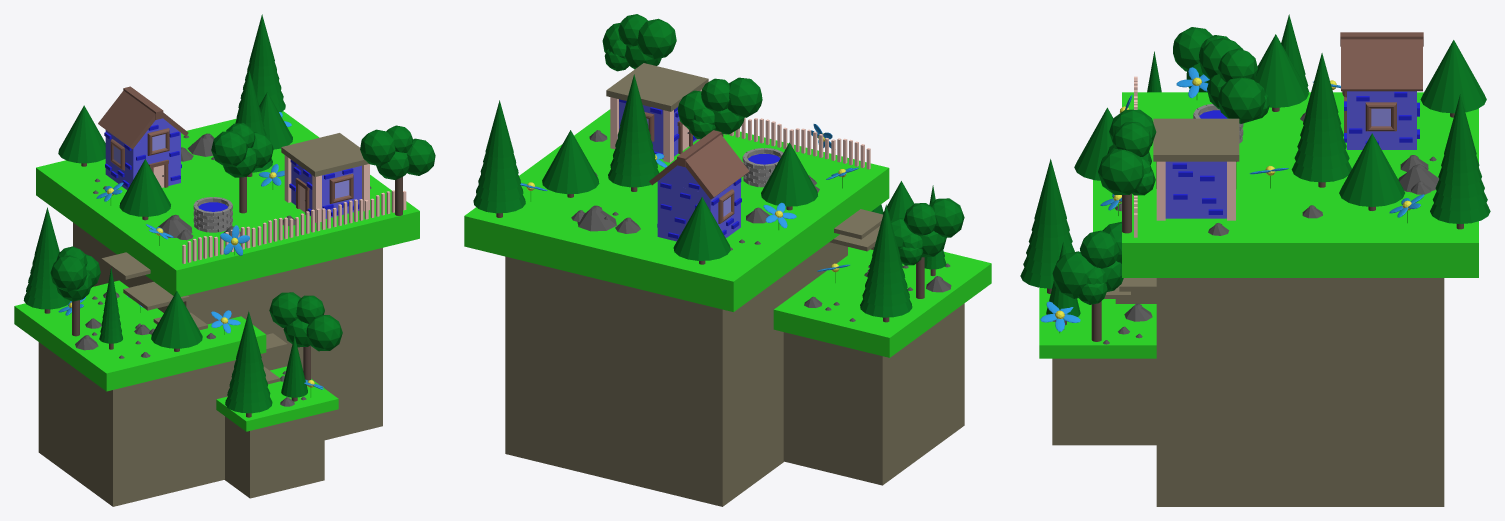
File: LonelyIsland.fbx
3 renders of one model, left to right at view 1: azimuth 30°, elevation 25°; view 2: azimuth 150°, elevation 25°; view 3: azimuth 270°, elevation 25°, orthographic. The views are drawn at different scales.
Parts seen in each view (by area): view 1: Cube.002, Cube.185, Cube, Cube.186, Cube.187, Cube.188, Cube.149, Cube.045, Cube.046, TreeLeaves, TreeLeaves.033, TreeLeaves.025 (+22 smaller); view 2: Cube, Cube.002, Cube.185, Cube.186, Cube.149, Cube.046, Cube.045, TreeLeaves.025, TreeLeaves.026, TreeLeaves.033, Icosphere.016, Icosphere.010 (+15 smaller); view 3: Cube, Cube.002, Cube.187, Cube.188, Cube.044, Cube.149, Cube.144, Cube.046, TreeLeaves.026, TreeLeaves.025, TreeLeaves.033, Icosphere.011 (+29 smaller).
Part boxes in pixels (box(x1,y1,x2,y2)): Cube.002: box(36, 111, 419, 296); Cube.185: box(38, 342, 235, 506); Cube: box(73, 222, 382, 440); Cube.186: box(14, 280, 266, 391); Cube.187: box(224, 412, 324, 498); Cube.188: box(216, 366, 338, 431); Cube.149: box(281, 133, 368, 176); Cube.045: box(98, 90, 155, 149); Cube.046: box(105, 130, 180, 189); TreeLeaves: box(151, 291, 202, 348); TreeLeaves.033: box(119, 159, 170, 216); TreeLeaves.025: box(58, 105, 105, 163); Cube: box(505, 242, 847, 506); Cube.002: box(464, 109, 889, 311); Cube.185: box(783, 303, 964, 485); Cube.186: box(773, 247, 991, 357); Cube.149: box(606, 63, 708, 111); Cube.046: box(657, 181, 740, 241); Cube.045: box(685, 135, 749, 199); TreeLeaves.025: box(673, 197, 730, 260); TreeLeaves.026: box(542, 130, 599, 194); TreeLeaves.033: box(761, 142, 817, 206); Icosphere.016: box(637, 18, 676, 59); Icosphere.010: box(728, 77, 762, 117); Cube: box(1156, 278, 1444, 506); Cube.002: box(1122, 92, 1478, 277); Cube.187: box(1052, 358, 1156, 445); Cube.188: box(1039, 288, 1156, 358); Cube.044: box(1341, 39, 1422, 91); Cube.149: box(1153, 118, 1239, 161); Cube.144: box(1165, 161, 1226, 218); Cube.046: box(1347, 91, 1416, 149); TreeLeaves.026: box(1339, 133, 1404, 206); TreeLeaves.025: box(1420, 40, 1486, 113); TreeLeaves.033: box(1254, 34, 1308, 107); Icosphere.011: box(1217, 77, 1265, 123).
Size of the model in its own units: 4.37 by 3.87 by 3.99.
